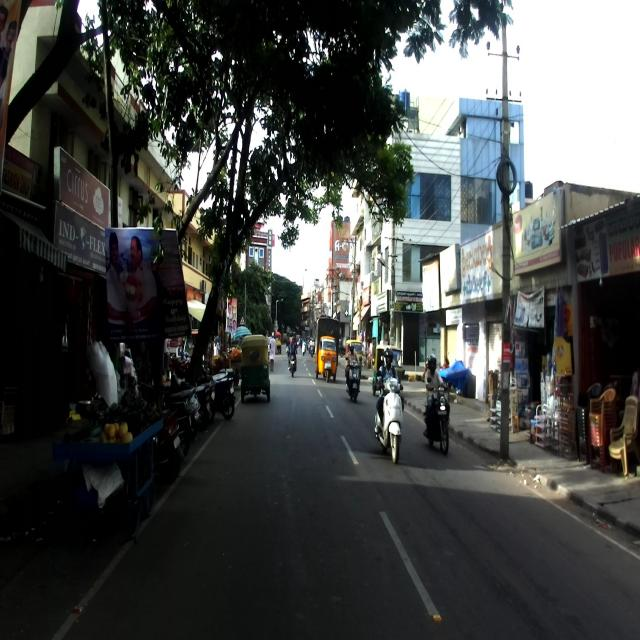motorcycle_TVS: (422, 380, 452, 454)
scooter: (373, 369, 405, 465)
